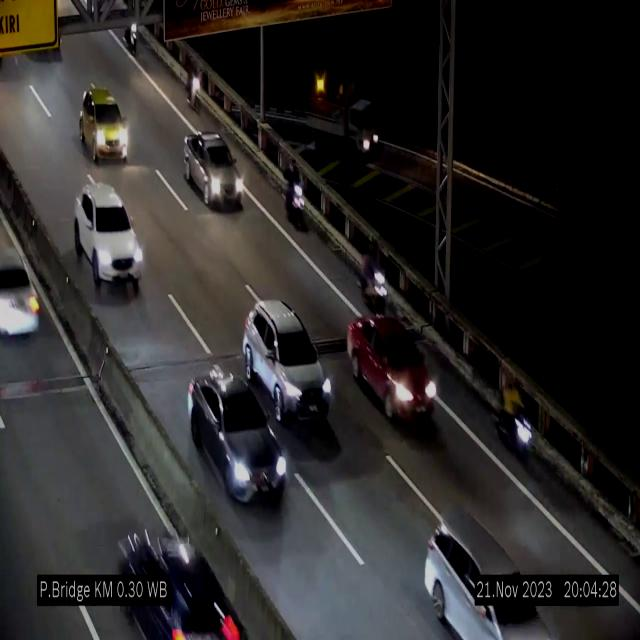Car: (419, 509, 569, 640), (113, 510, 225, 640), (188, 368, 288, 501), (243, 299, 331, 421), (348, 312, 434, 435), (74, 183, 142, 293), (0, 228, 50, 354), (183, 130, 243, 210), (80, 85, 128, 162)
Motorcycle: (502, 369, 535, 466), (353, 232, 389, 316), (282, 150, 308, 241), (183, 50, 205, 121), (120, 10, 142, 60)
Truck: (303, 63, 389, 174)
